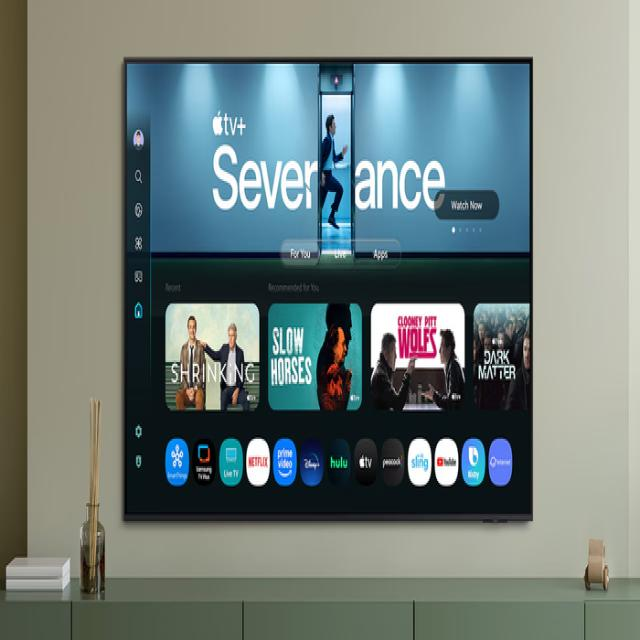electronics: (124, 60, 529, 516), (5, 558, 69, 591), (5, 558, 69, 578), (5, 572, 69, 591)
